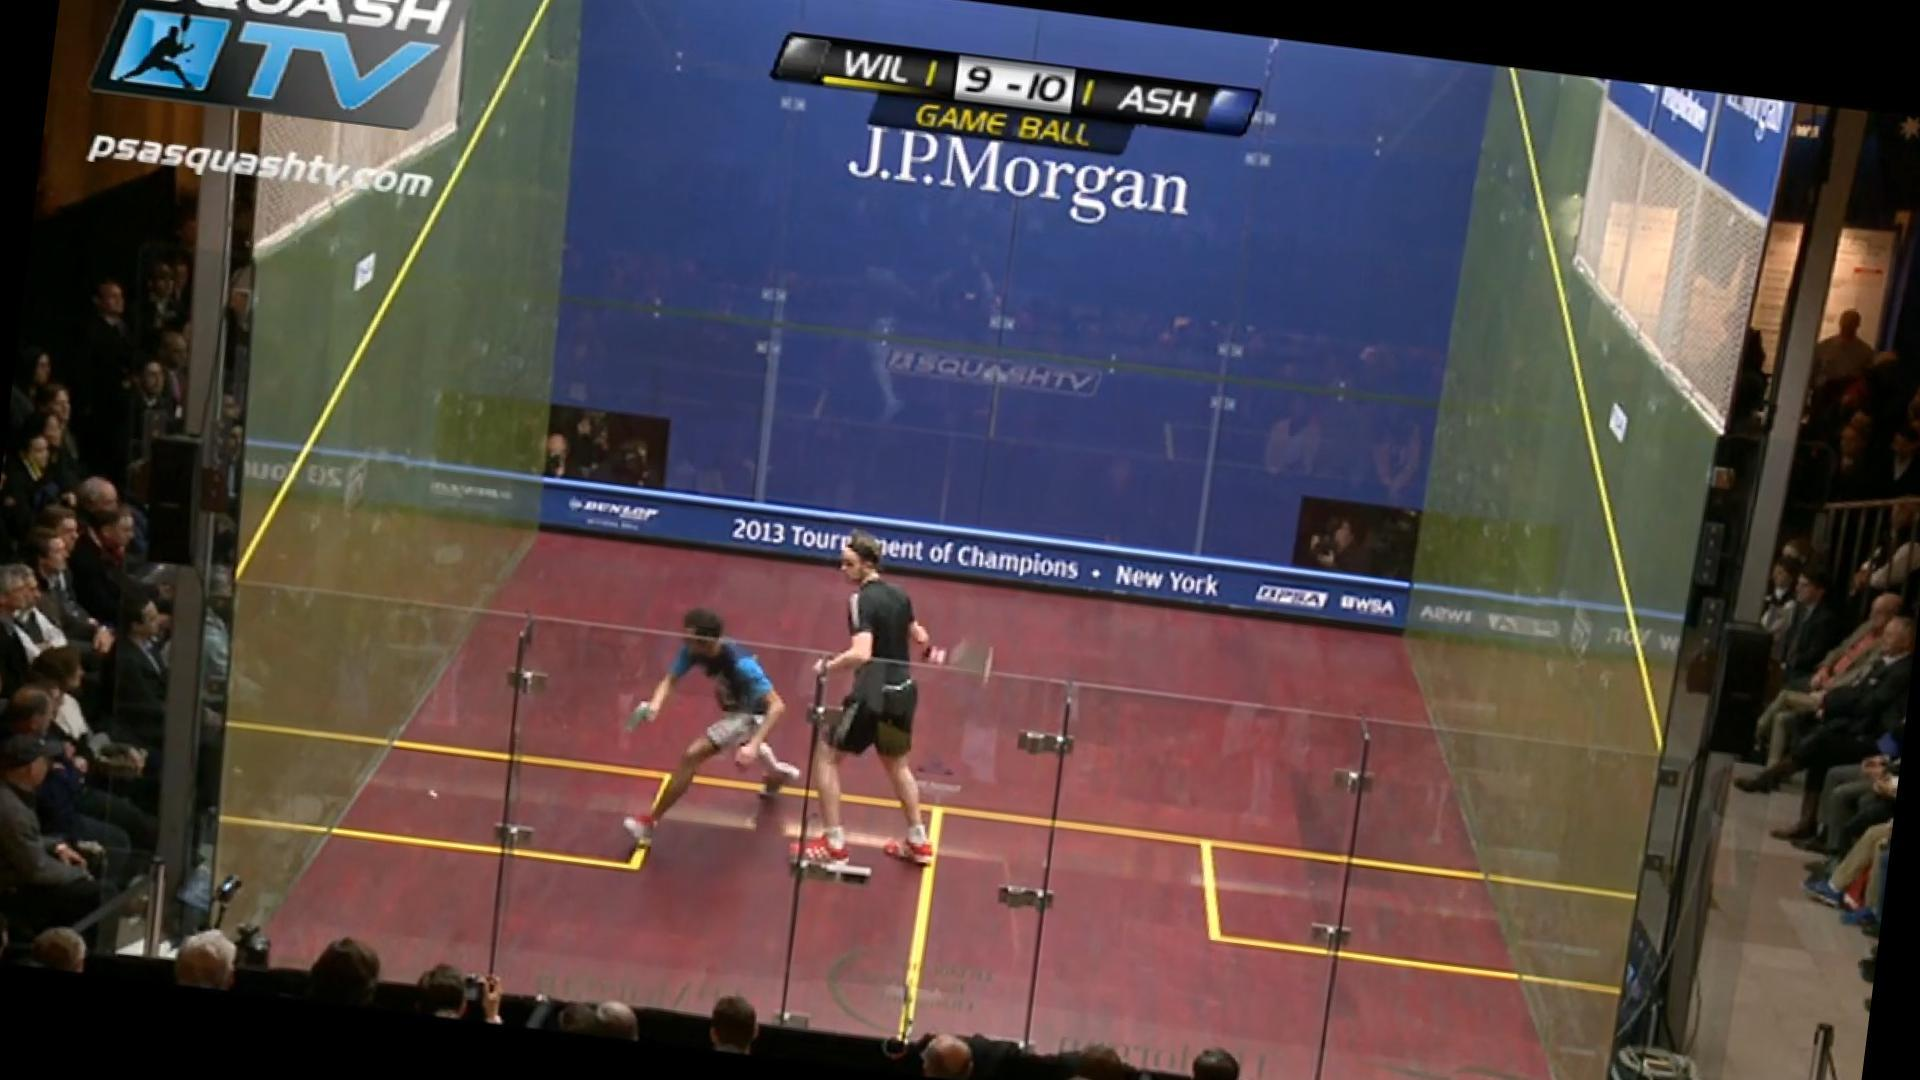Squash-Ball: (414, 781, 462, 816)
